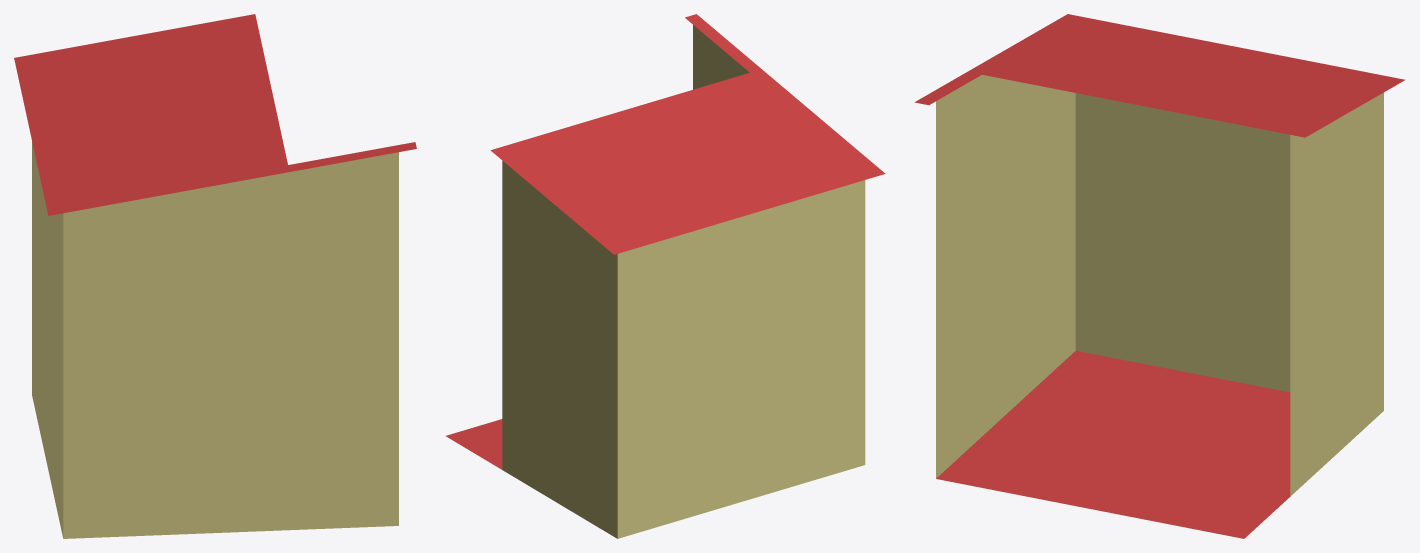
3 views of the same model, side by side, from view 1: azimuth 30°, elevation 25°; view 2: azimuth 150°, elevation 25°; view 3: azimuth 270°, elevation 25° (orthographic). The views are drawn at different scales.
Size of the model in its own units: 7.16 by 7.53 by 6.42.
